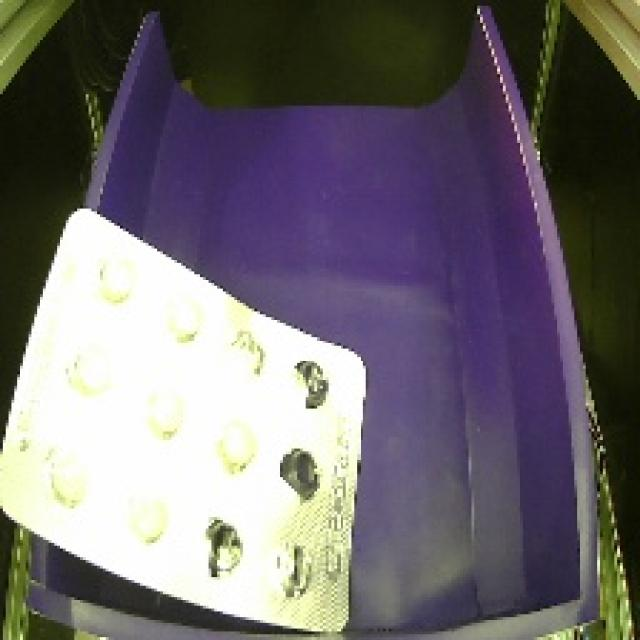med_plate: (0, 197, 374, 640)
